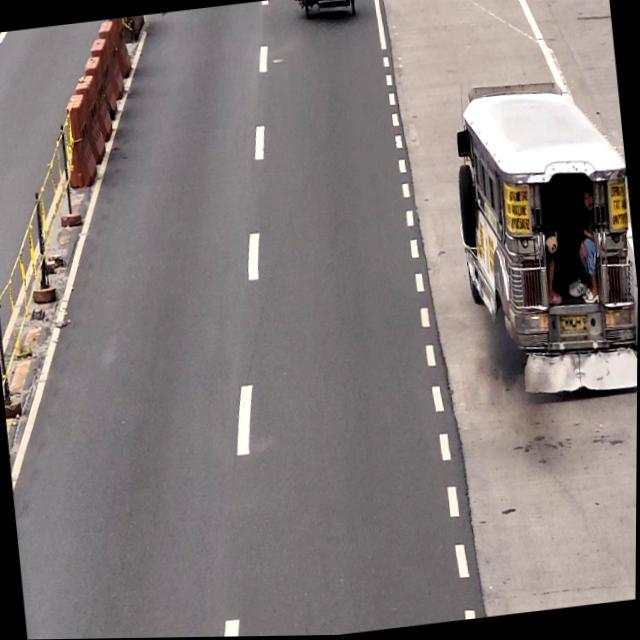Jeep: (445, 72, 640, 403)
License-Plate: (556, 312, 593, 346)
